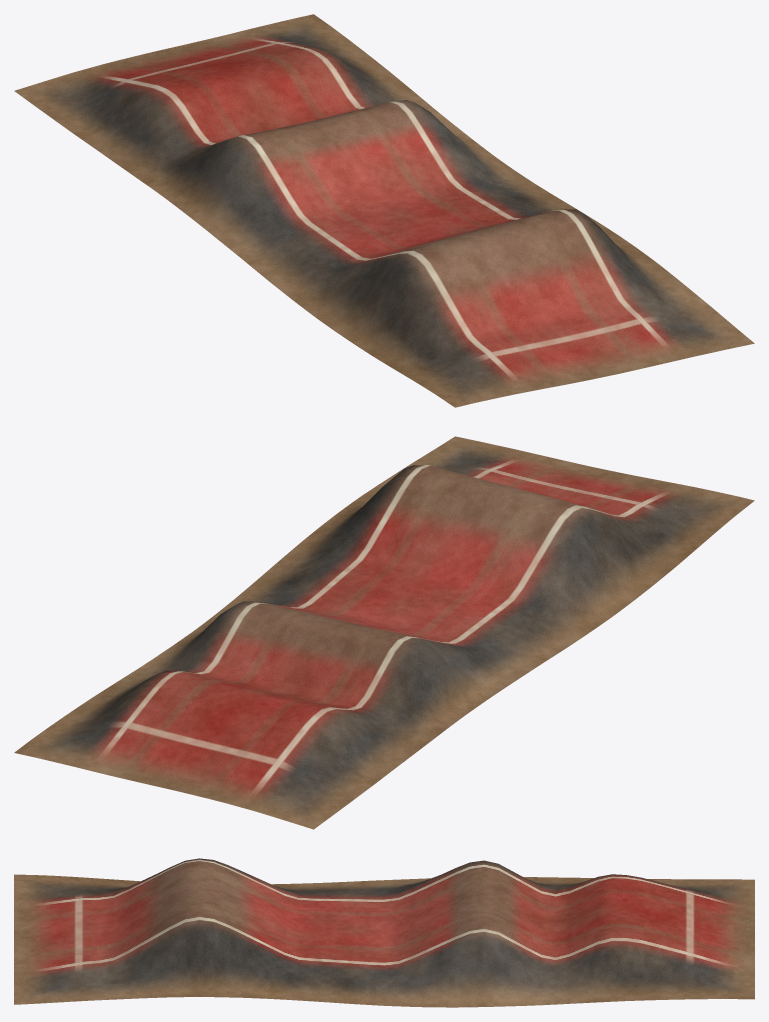
File: WestRhythm.obj
The picture shows the model from 3 angles, top to bottom: view 1: azimuth 30°, elevation 25°; view 2: azimuth 150°, elevation 25°; view 3: azimuth 270°, elevation 25°; orthographic projection. The views are drawn at different scales.
Visible parts, largest first — view 1: WestRhythm; view 2: WestRhythm; view 3: WestRhythm.
Part boxes in pixels (left/top/right/bottom): WestRhythm: left=14, top=14, right=754, bottom=407; WestRhythm: left=14, top=436, right=754, bottom=829; WestRhythm: left=14, top=858, right=754, bottom=1007.
Bounding box in the file's own units: 10.2 × 2.29 × 26.
1 material, 1 textured.
